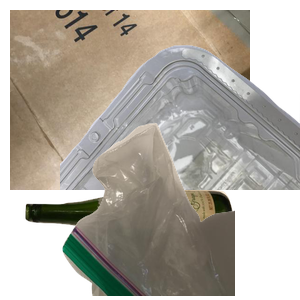cardboard: (10, 10, 250, 190)
glass: (23, 186, 249, 300)
plastic: (60, 43, 300, 223)
trash: (60, 120, 300, 300)
